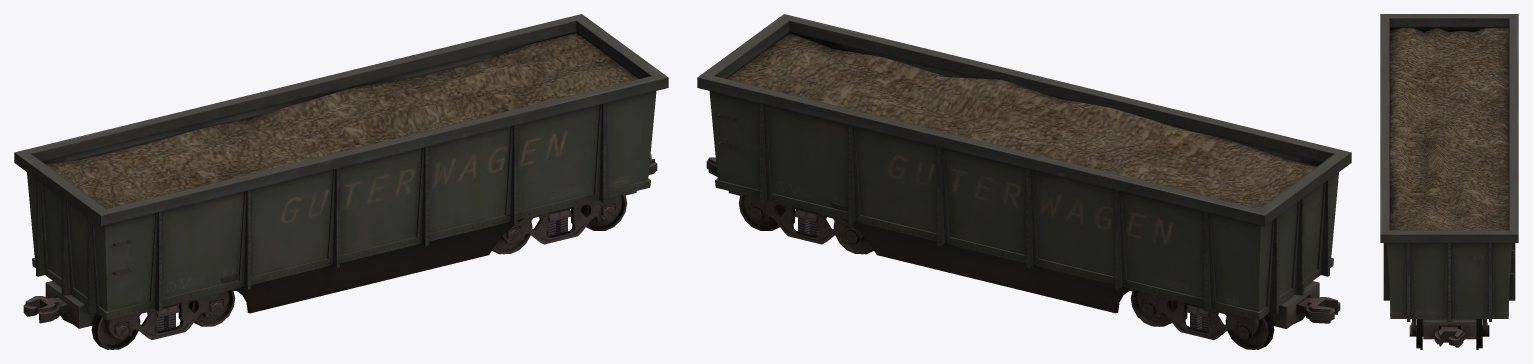
3 views of the same model, side by side, from view 1: azimuth 30°, elevation 25°; view 2: azimuth 150°, elevation 25°; view 3: azimuth 270°, elevation 25° (orthographic). The views are drawn at different scales.
Parts seen in each view (by area): view 1: body0_model0_lod0_mesh0; view 2: body0_model0_lod0_mesh0; view 3: body0_model0_lod0_mesh0.
Boxes of the visible parts, box(x1,y1,x2,y2) form: body0_model0_lod0_mesh0: box(14, 14, 668, 349); body0_model0_lod0_mesh0: box(697, 14, 1351, 349); body0_model0_lod0_mesh0: box(1380, 14, 1518, 349).
Size of the model in its own units: 600 by 148 by 144.
Materials: 1 (1 with a texture image).
